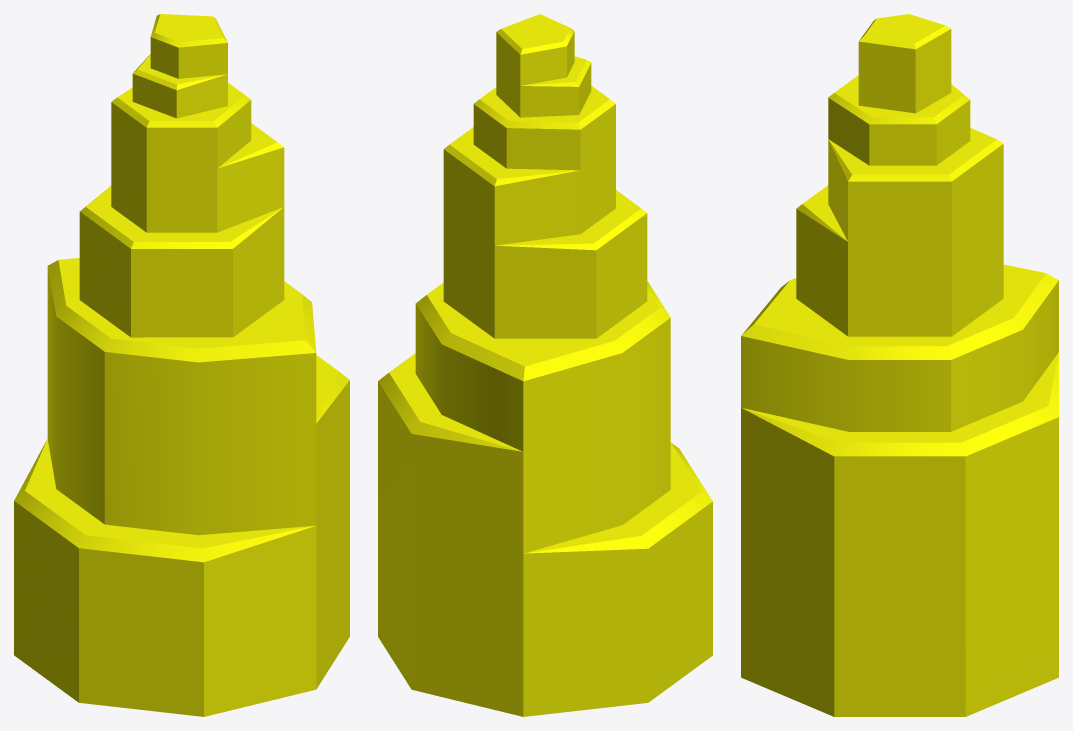
Rendered from kaykit-rock-1-o-color-1.glb.
3 renders of one model, left to right at view 1: azimuth 30°, elevation 25°; view 2: azimuth 150°, elevation 25°; view 3: azimuth 270°, elevation 25°, orthographic.
Parts seen in each view (by area): view 1: Rock_1_O_Color1; view 2: Rock_1_O_Color1; view 3: Rock_1_O_Color1.
Part boxes in pixels (left/top/right/bottom): Rock_1_O_Color1: left=14, top=14, right=349, bottom=716; Rock_1_O_Color1: left=378, top=14, right=712, bottom=716; Rock_1_O_Color1: left=741, top=14, right=1058, bottom=716.
Size of the model in its own units: 2.11 by 4.58 by 2.11.
